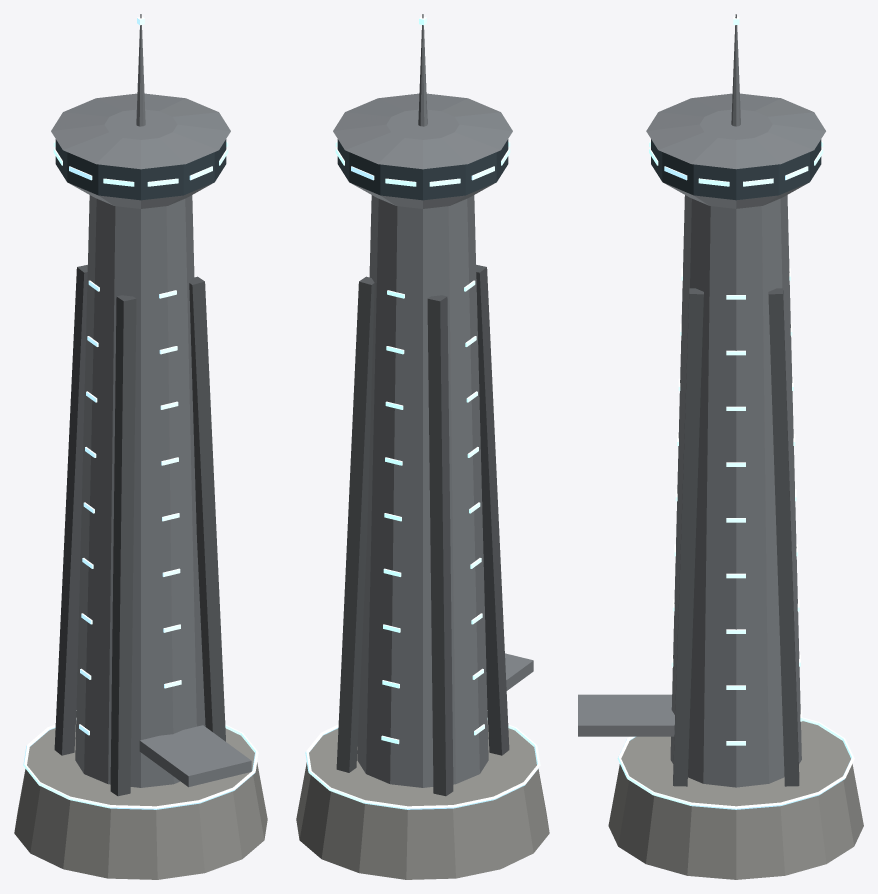
The model's file is imperial_tower.glb.
3 views of the same model, side by side, from view 1: azimuth 30°, elevation 25°; view 2: azimuth 150°, elevation 25°; view 3: azimuth 270°, elevation 25° (orthographic).
Visible parts, largest first — view 1: imperial_tower; view 2: imperial_tower; view 3: imperial_tower.
Part boxes in pixels (box(x1,y1,x2,y2)): imperial_tower: box(14, 14, 267, 879); imperial_tower: box(296, 14, 549, 879); imperial_tower: box(578, 14, 863, 879).
Size of the model in its own units: 21 by 73.6 by 23.5.
